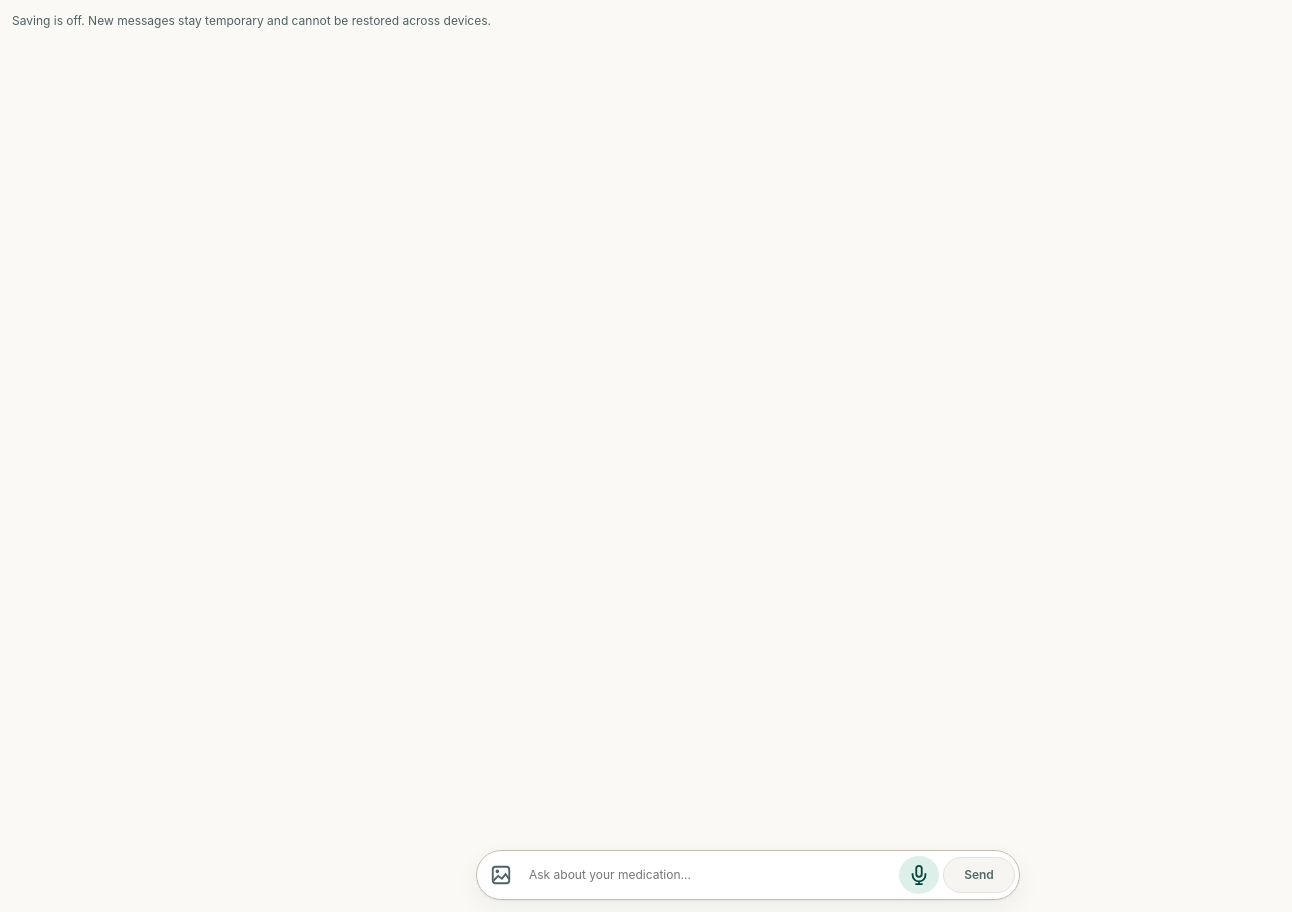
retains the same message identity after an ambiguous network failure
Type "DEMO retry text" into the field. click: (710, 875)
box: [525, 855, 895, 895]
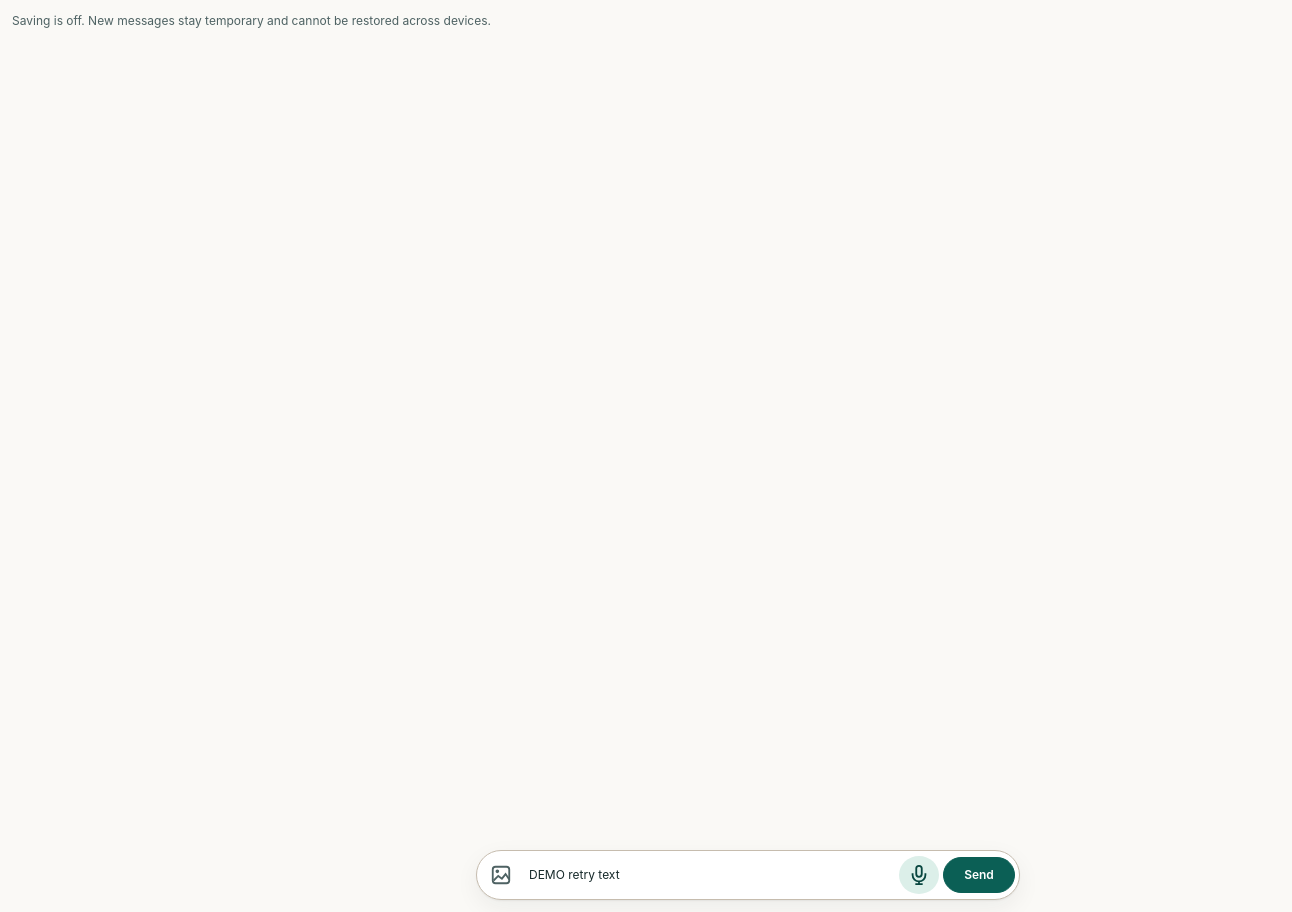
Click the button "Send". click: click(979, 875)
box: [943, 857, 1015, 893]
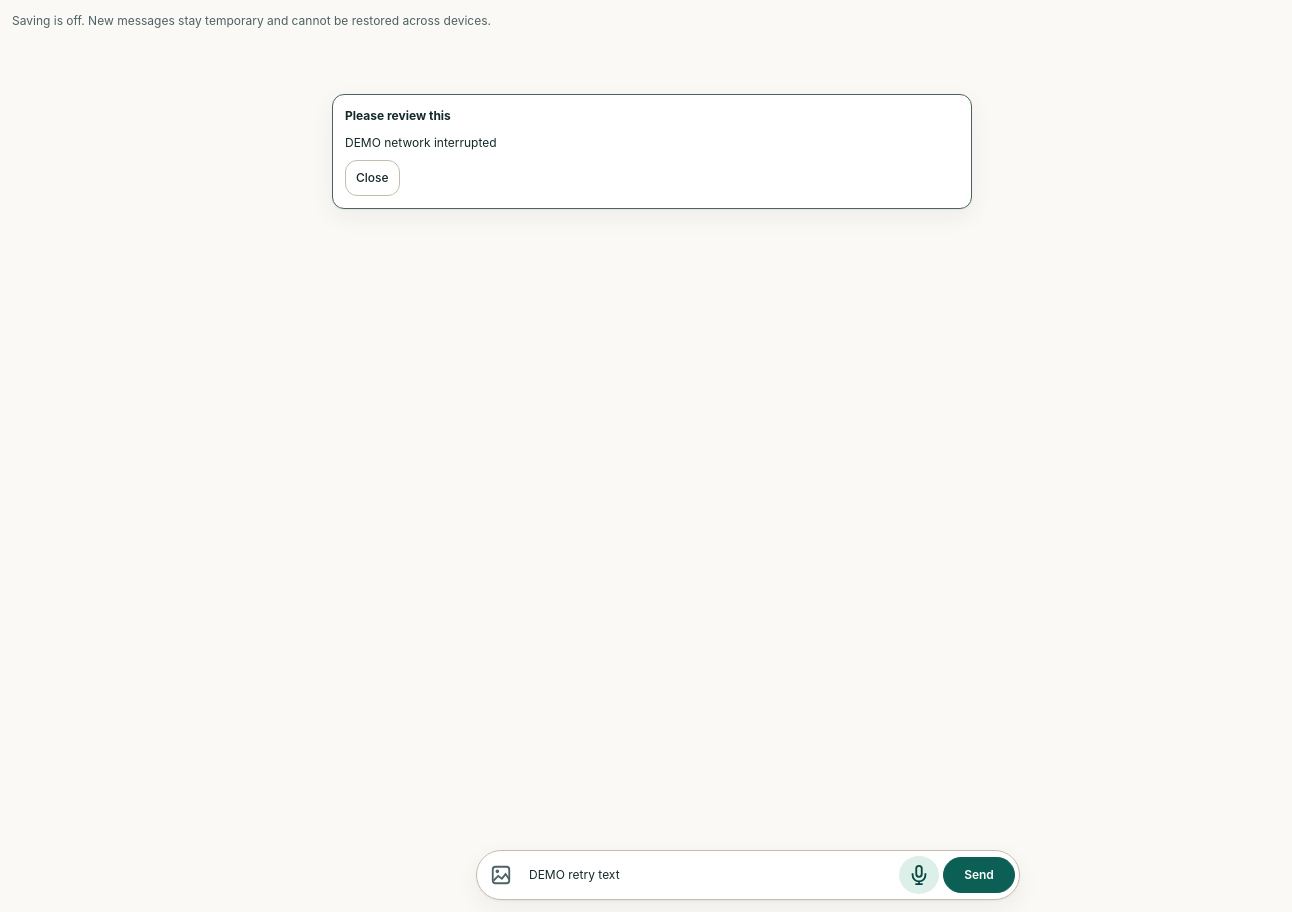
Now the text "DEMO network interrupted" is shown, box [345, 135, 496, 150]
Click the button "Send". click: click(979, 875)
box: [943, 857, 1015, 893]
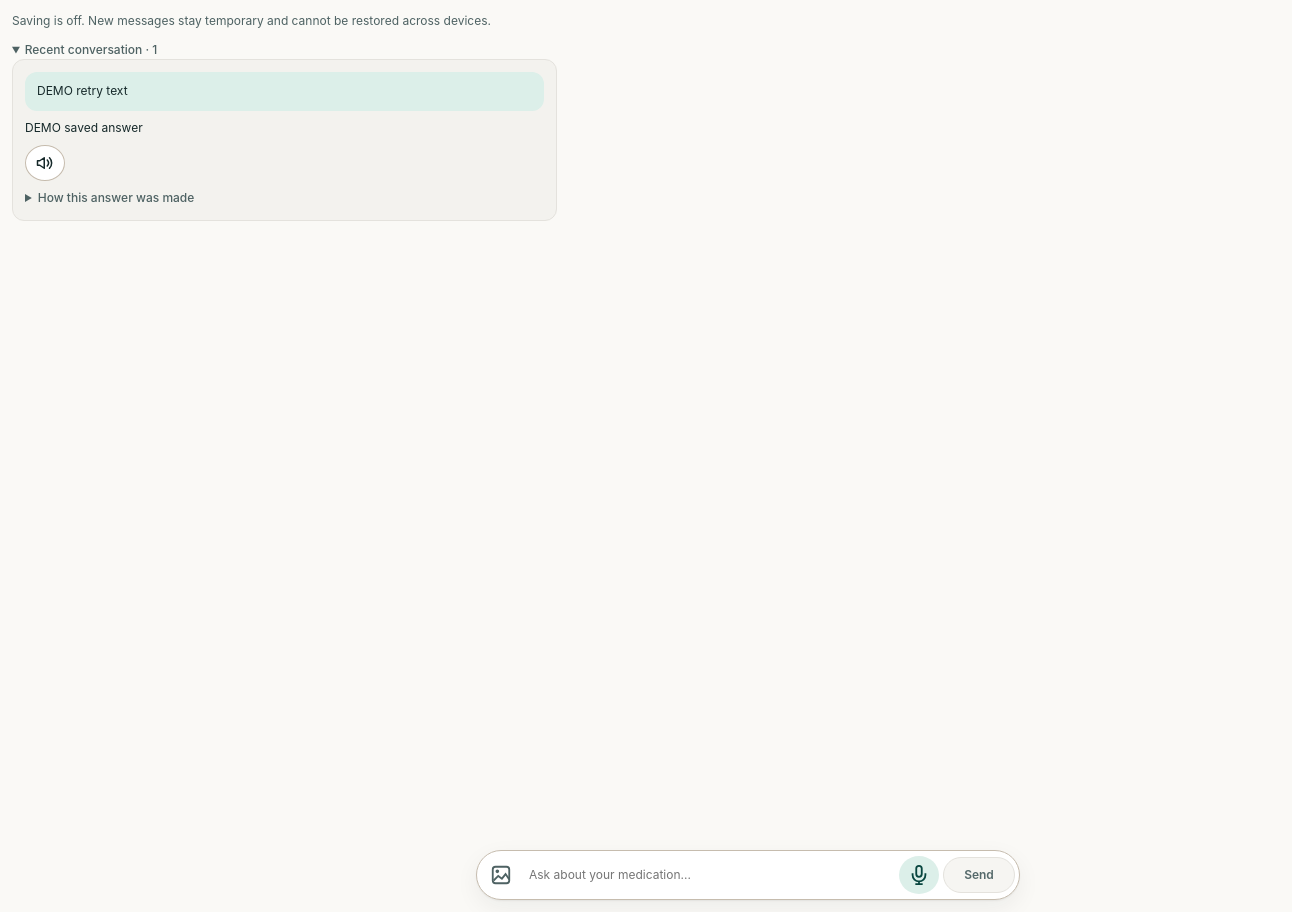
Now the text "DEMO saved answer" is shown, box [25, 120, 143, 135]
